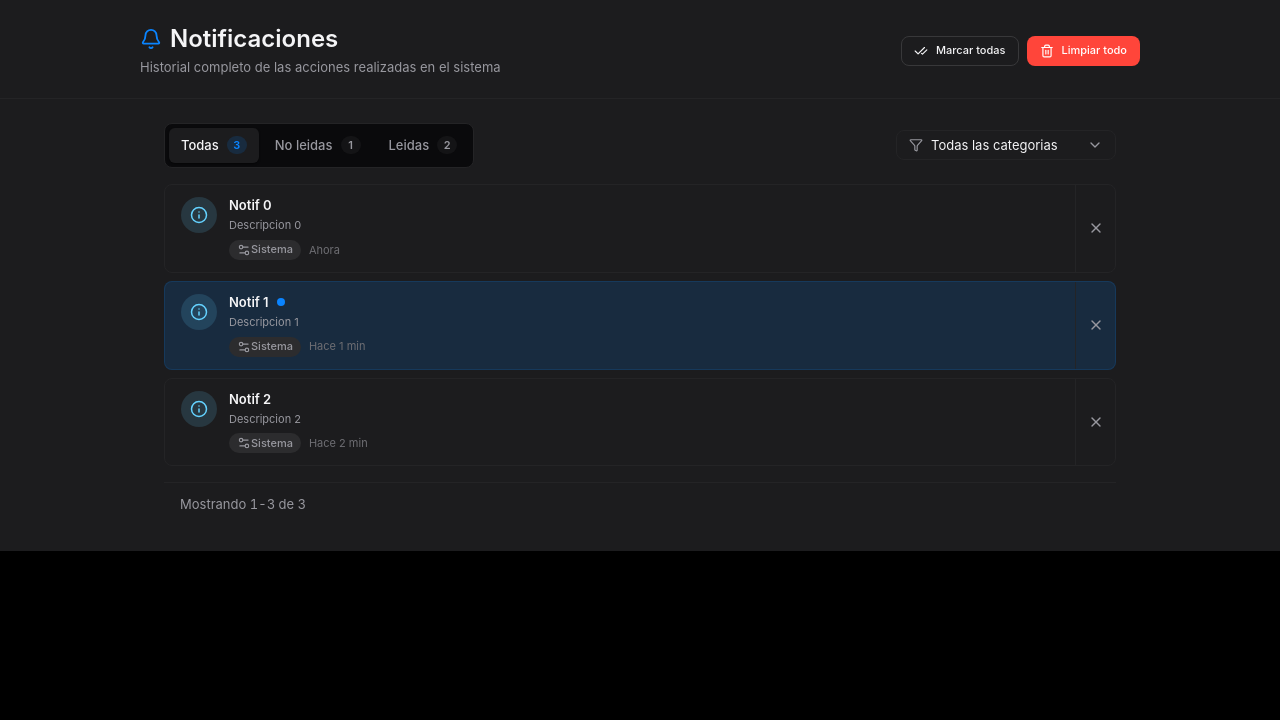
it: Notifications page › clears filters when "Limpiar filtros" is clicked
Select "Facturacion" in the dropdown. click: (1017, 145)
box: [931, 131, 1103, 159]
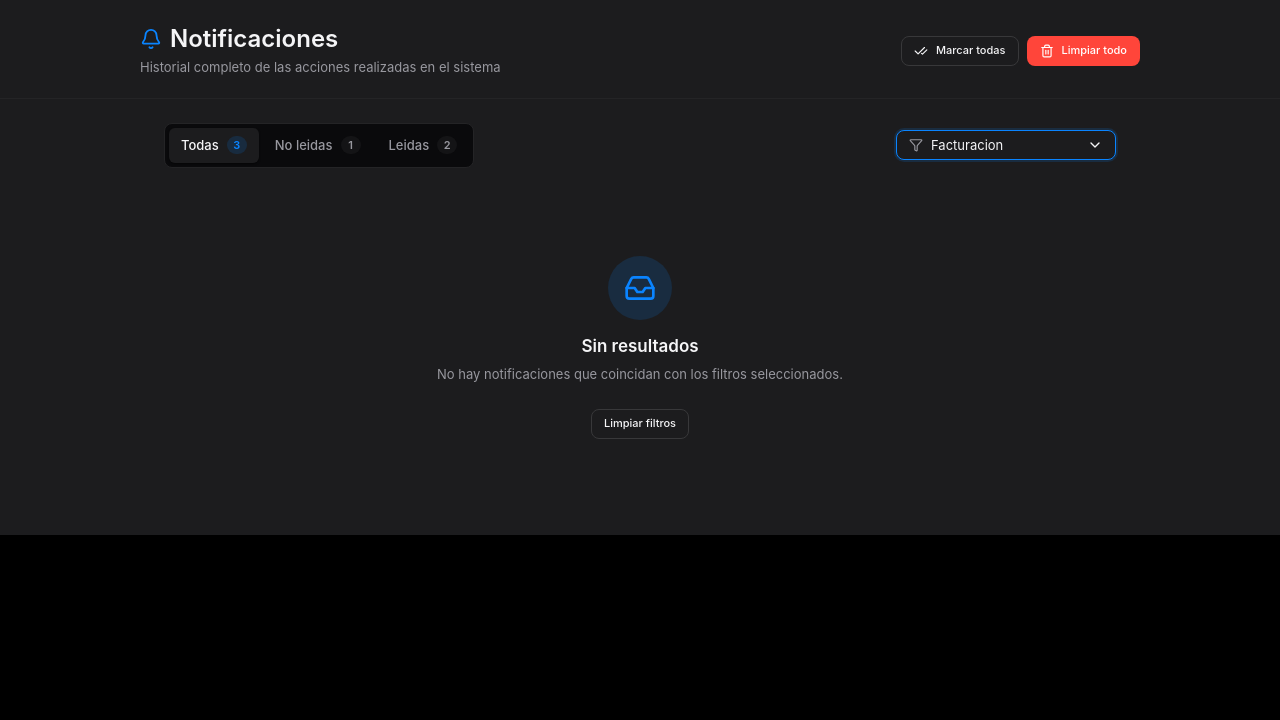
Click the button "Limpiar filtros". click: (640, 424)
box: [591, 409, 689, 439]
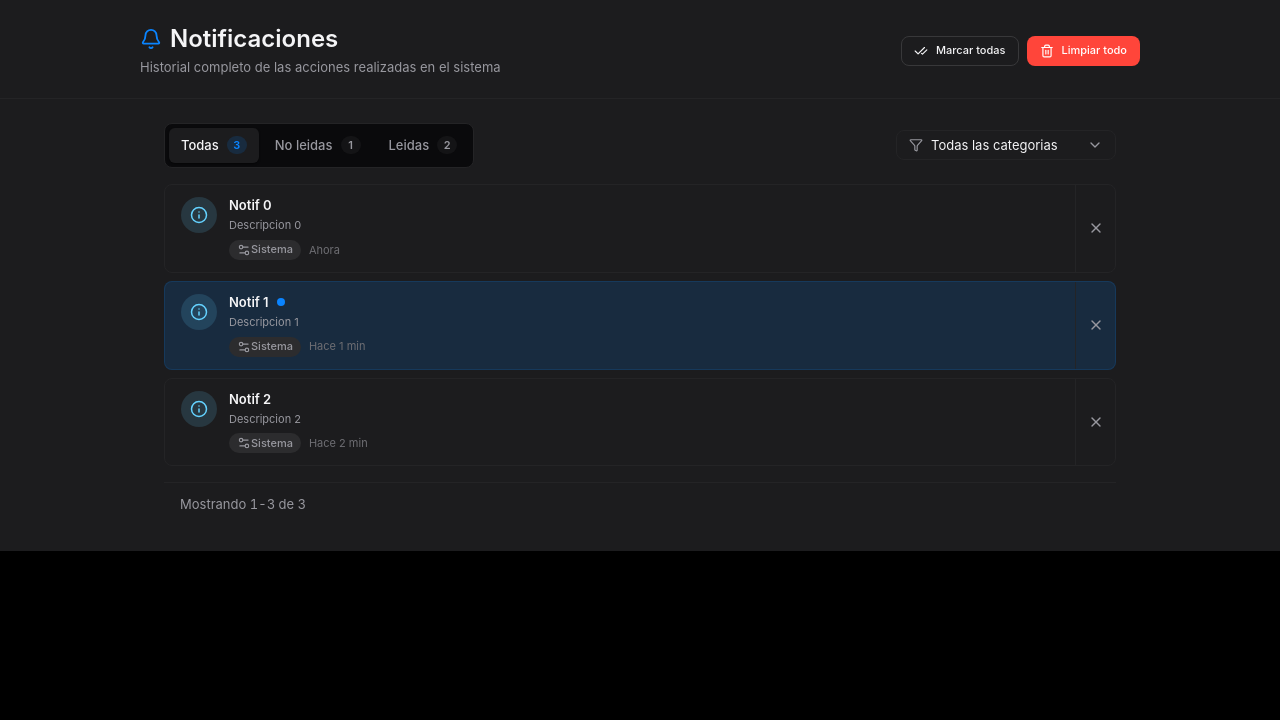
expect the text "Notif 0" is shown: met, box [229, 197, 272, 213]
